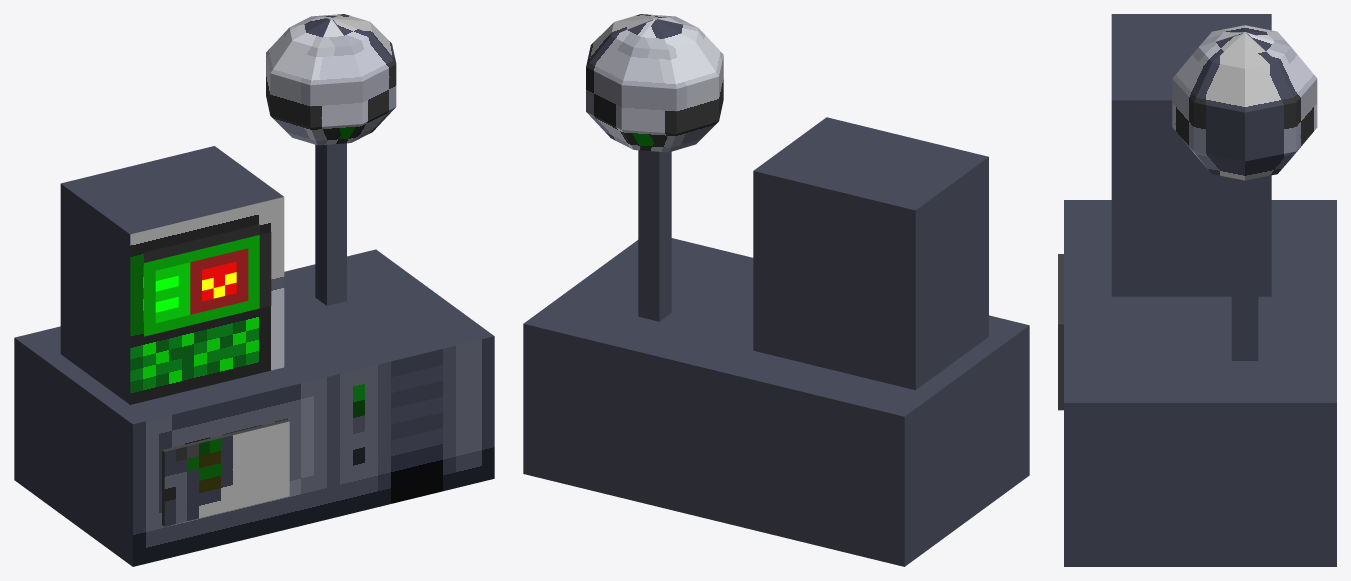
Rendered from tachyon_doppler_array.glb.
3 views of the same model, side by side, from view 1: azimuth 30°, elevation 25°; view 2: azimuth 150°, elevation 25°; view 3: azimuth 270°, elevation 25° (orthographic). The views are drawn at different scales.
Visible parts, largest first — view 1: Doppler_Base, Directional_Sensor, Monitor, Service_Hatch; view 2: Doppler_Base, Directional_Sensor; view 3: Doppler_Base, Directional_Sensor, Service_Hatch.
Part boxes in pixels (bbox=[...]): Doppler_Base: bbox=[14, 143, 494, 566]; Directional_Sensor: bbox=[266, 14, 396, 145]; Monitor: bbox=[144, 224, 271, 336]; Service_Hatch: bbox=[162, 419, 289, 526]; Doppler_Base: bbox=[523, 117, 1029, 566]; Directional_Sensor: bbox=[586, 14, 723, 152]; Doppler_Base: bbox=[1064, 14, 1336, 566]; Directional_Sensor: bbox=[1172, 25, 1317, 180]; Service_Hatch: bbox=[1058, 254, 1063, 410].
Bounding box in the file's own units: 1.62 × 1.81 × 0.94.
2 materials, 2 textured.
